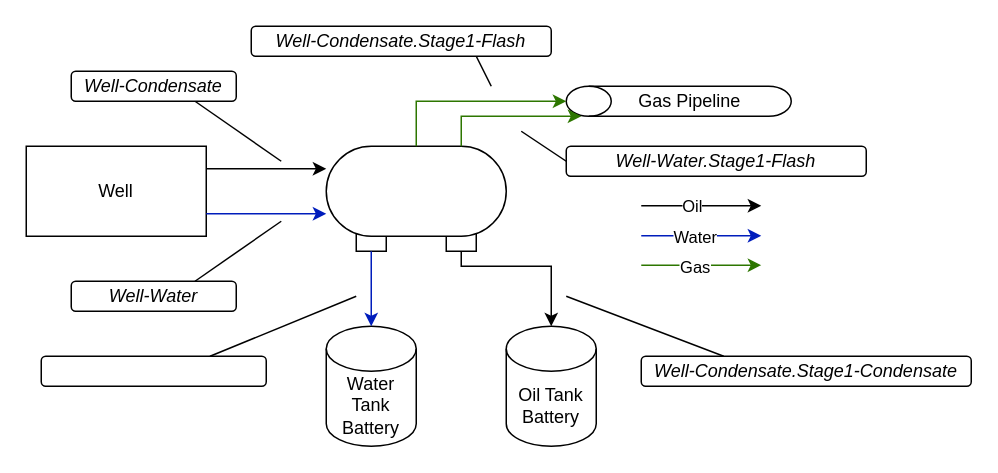
This 998x473 diagram has some shape labels left out. Here are the shapes that lost their labels. From the top down, the box of each, then its label:
(325, 145, 506, 236): Stage1
(40, 355, 266, 386): Well-Water.Stage1-Water
